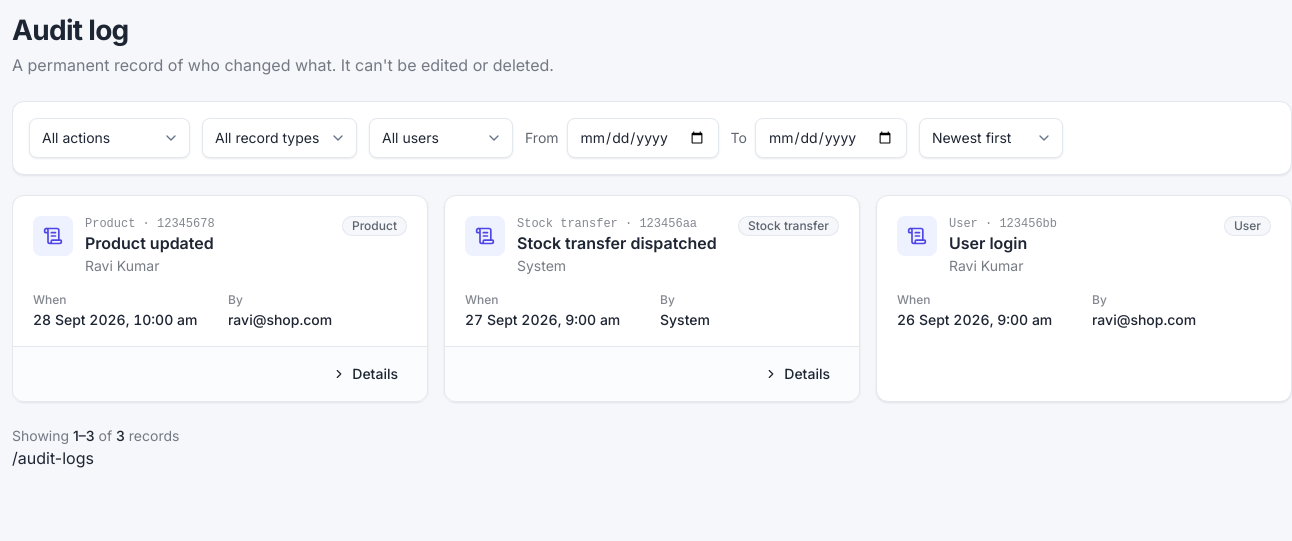
Test: AuditLogPage › extra details (metadata) are shown; entries with nothing extra have no Details button
Click the button with aria-label "Show details: Stock transfer dispatched" at (797, 374), box [751,357,843,391]
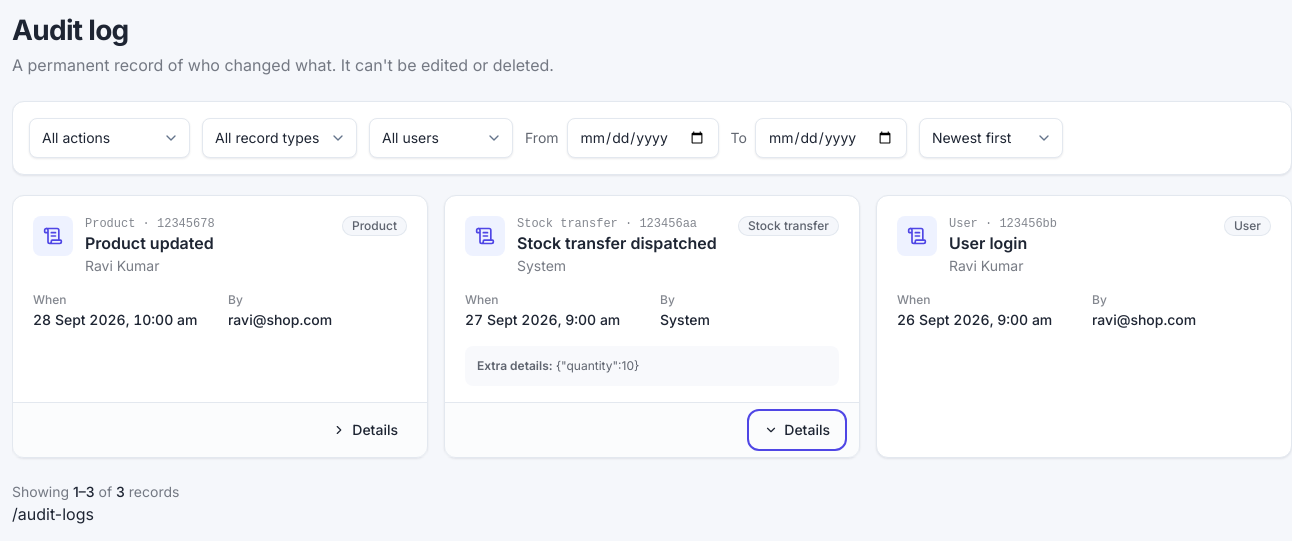
Expected: the text "Extra details:" is shown, [477,358,553,373]
Expected: the text "Extra details: {\"quantity\":10}" is shown, [477,358,639,373]
